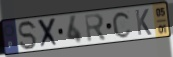4: (65, 13, 84, 46)
C: (111, 11, 133, 40)
K: (134, 8, 153, 37)
R: (83, 13, 108, 44)
S: (17, 19, 38, 51)
X: (37, 17, 60, 50)
